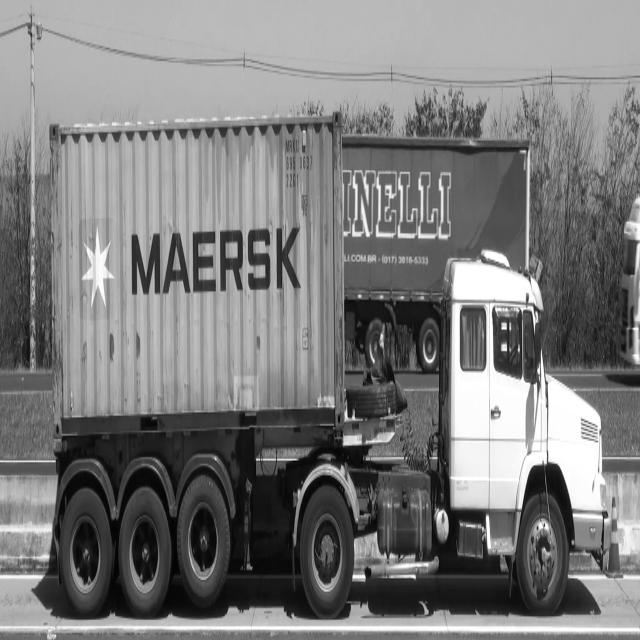Pole: (29, 3, 36, 373)
Truck: (51, 115, 610, 616)
